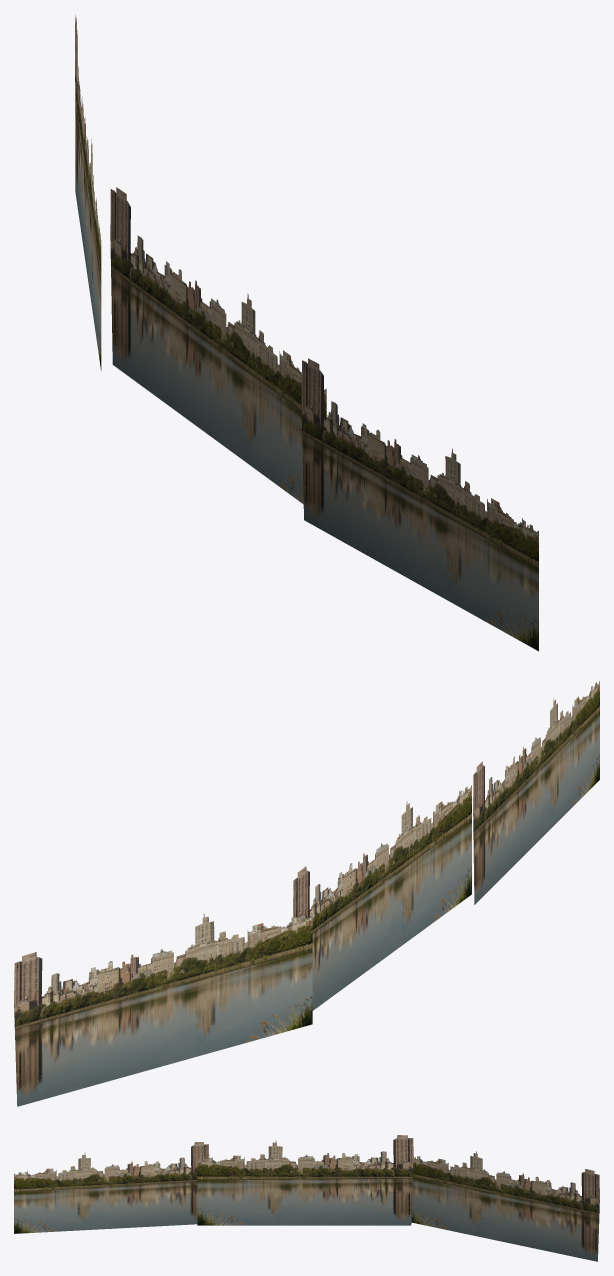
File: city.gltf
The picture shows the model from 3 angles, top to bottom: view 1: azimuth 30°, elevation 25°; view 2: azimuth 150°, elevation 25°; view 3: azimuth 270°, elevation 25°; orthographic projection. The views are drawn at different scales.
Parts seen in each view (by area): view 1: TexturesCom_LandscapeCity0041_M; view 2: TexturesCom_LandscapeCity0041_M; view 3: TexturesCom_LandscapeCity0041_M.
Part boxes in pixels (bbox=[...]): TexturesCom_LandscapeCity0041_M: bbox=[75, 14, 538, 651]; TexturesCom_LandscapeCity0041_M: bbox=[14, 680, 599, 1106]; TexturesCom_LandscapeCity0041_M: bbox=[14, 1135, 599, 1261].
Size of the model in its own units: 26.04 by 27.31 by 158.
Materials: 1 (1 with a texture image).
